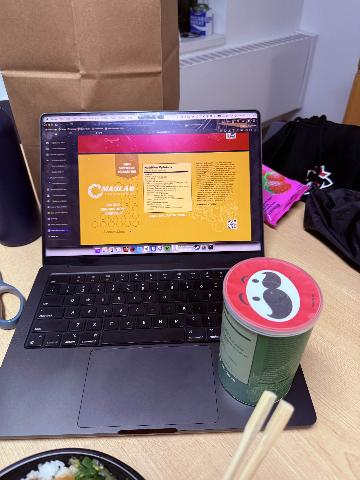Green Can: (219, 258, 322, 405)
